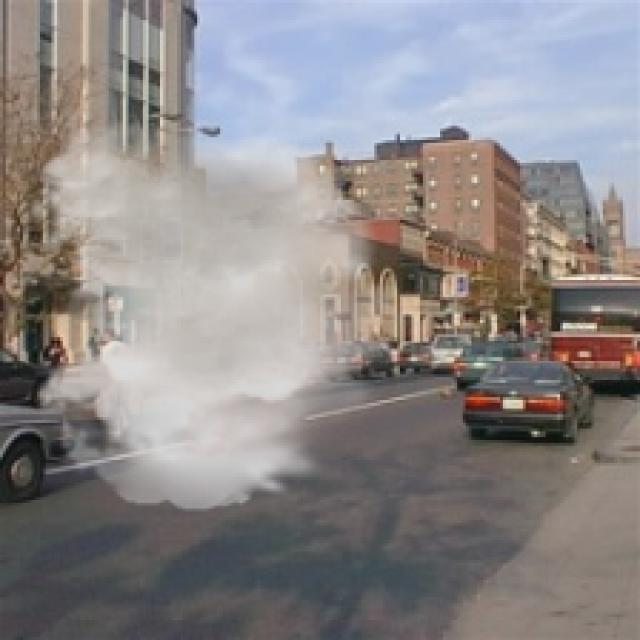Smoke: (26, 120, 428, 512)
